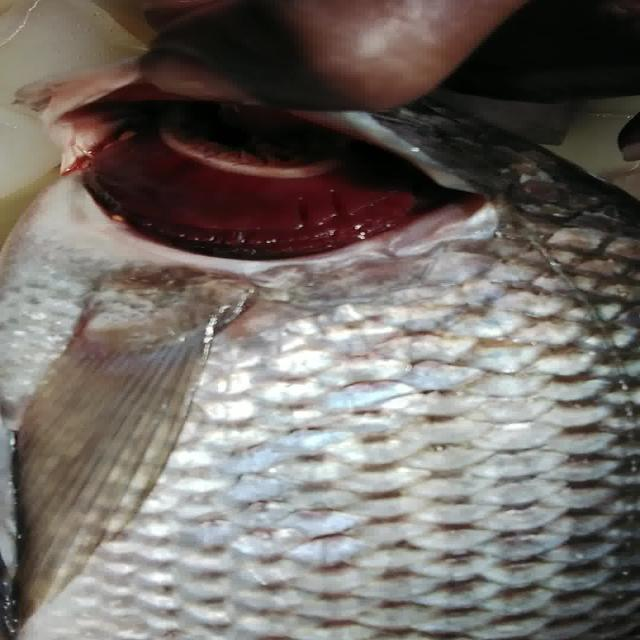Fresh: (63, 114, 486, 278)
